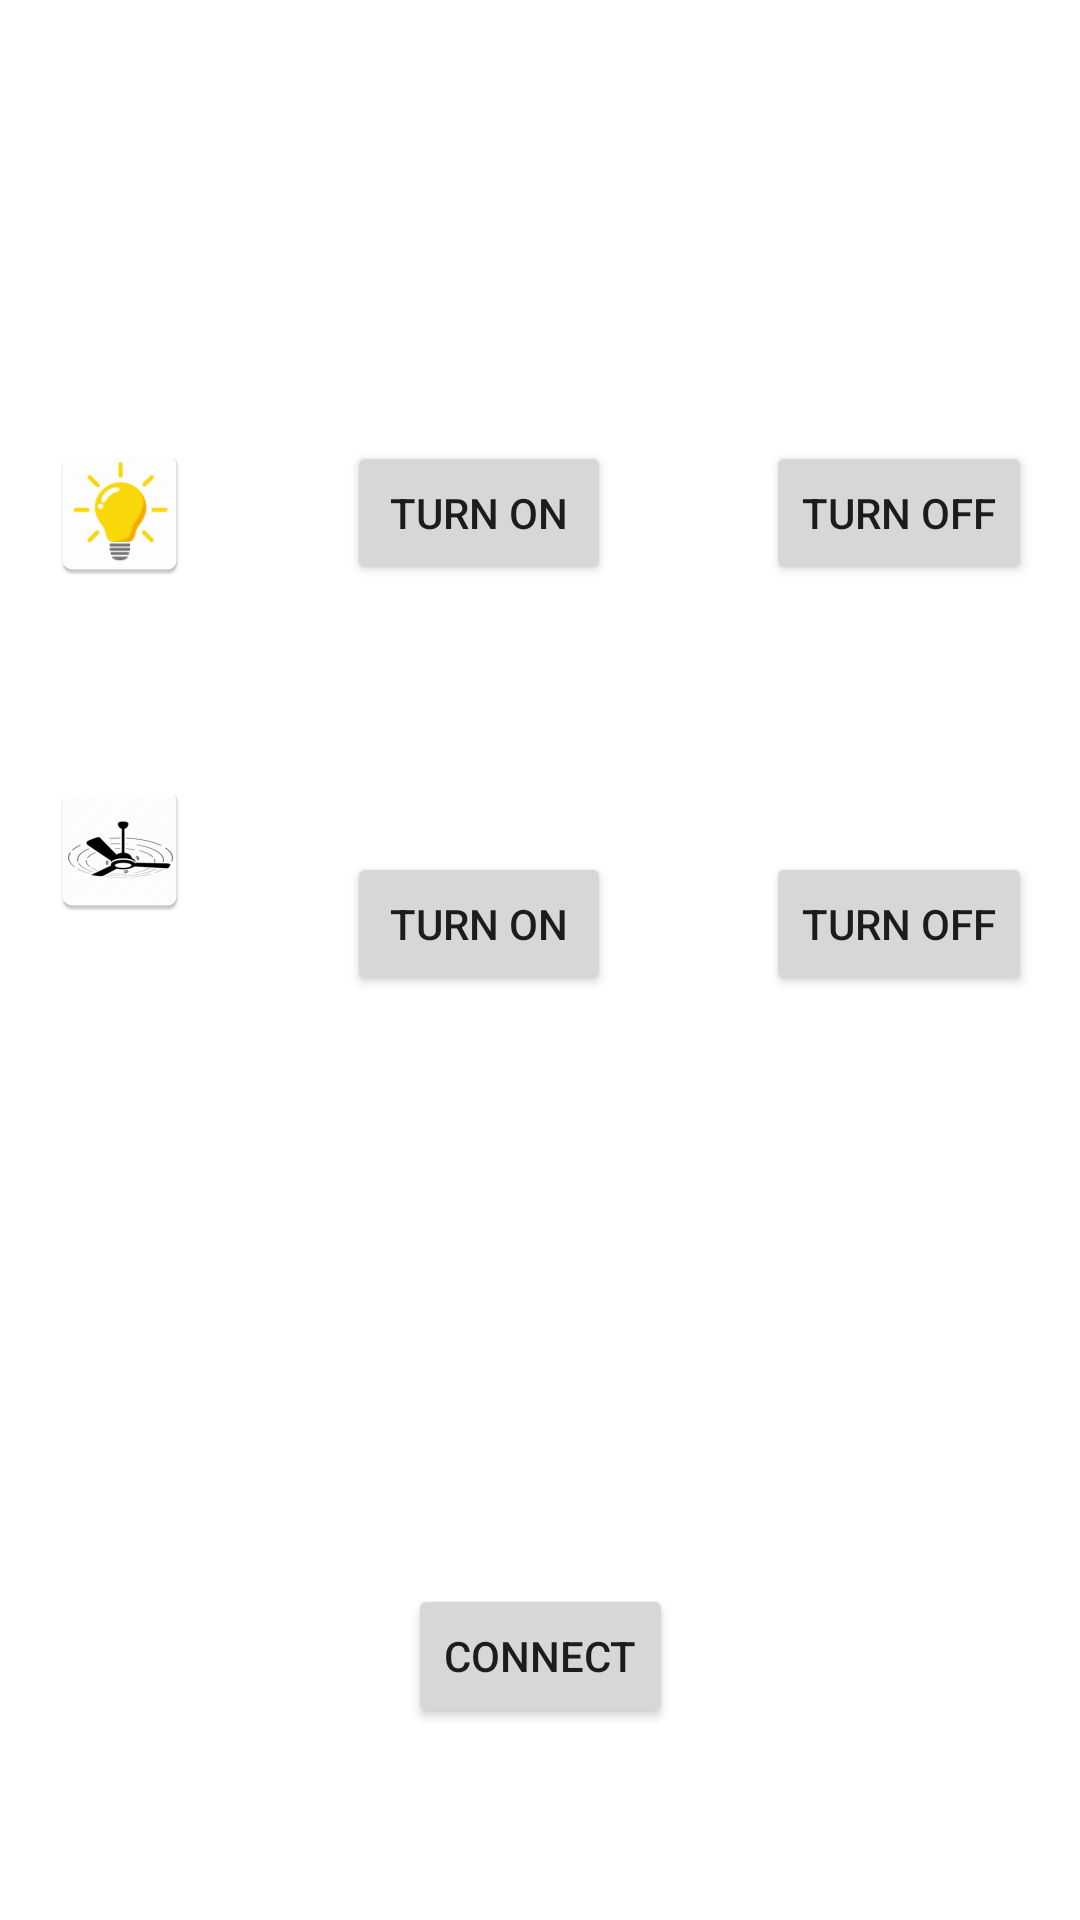

Named icons in this screenshot (1080 × 1920) and their centers, (x,y):
bulb: (120,518)
fan: (120,854)
